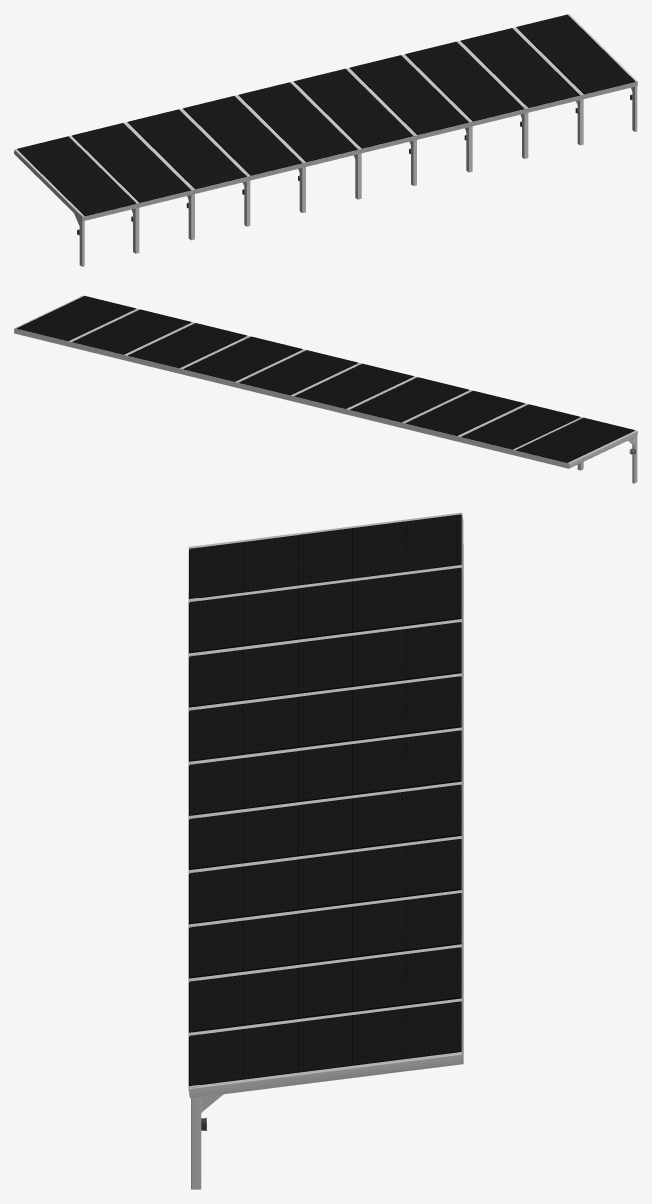
File: Cap_10.glb
The picture shows the model from 3 angles, top to bottom: view 1: azimuth 30°, elevation 25°; view 2: azimuth 150°, elevation 25°; view 3: azimuth 270°, elevation 25°; orthographic projection. The views are drawn at different scales.
Parts seen in each view (by area): view 1: Left.083, Middle.038, Middle.044, Middle.039, Middle.040, Middle.045, Middle.043, Middle.041, Middle.042, Middle.037, Right.010; view 2: Left.083, Middle.037, Middle.038, Middle.042, Middle.044, Middle.039, Middle.040, Middle.045, Middle.043, Middle.041; view 3: Middle.045, Middle.043, Middle.040, Middle.041, Middle.039, Middle.042, Middle.038, Middle.044, Middle.037, Left.083, Right.010.
Part boxes in pixels (box(x1,y1,x2,y2)): Left.083: box(14, 136, 137, 266); Middle.038: box(123, 109, 248, 240); Middle.044: box(457, 28, 582, 158); Middle.039: box(179, 95, 304, 226); Middle.040: box(235, 82, 360, 212); Middle.045: box(512, 14, 637, 145); Middle.043: box(401, 41, 526, 172); Middle.041: box(290, 68, 415, 199); Middle.042: box(346, 55, 471, 185); Middle.037: box(69, 123, 193, 253); Right.010: box(568, 14, 637, 131); Left.083: box(513, 417, 637, 483); Middle.037: box(458, 404, 583, 470); Middle.038: box(402, 390, 528, 441); Middle.042: box(180, 336, 306, 387); Middle.044: box(69, 309, 194, 360); Middle.039: box(347, 377, 472, 427); Middle.040: box(291, 363, 417, 414); Middle.045: box(14, 296, 139, 346); Middle.043: box(125, 323, 250, 373); Middle.041: box(236, 350, 361, 400); Middle.045: box(188, 998, 463, 1098); Middle.043: box(188, 890, 463, 980); Middle.040: box(188, 727, 463, 817); Middle.041: box(188, 781, 463, 871); Middle.039: box(188, 673, 463, 763); Middle.042: box(188, 836, 463, 925); Middle.038: box(188, 619, 463, 709); Middle.044: box(188, 944, 463, 1034); Middle.037: box(188, 565, 463, 654); Left.083: box(188, 512, 463, 600); Right.010: box(188, 1052, 463, 1189).
Bounding box in the file's own units: 26.66 × 3.11 × 5.7.
5 materials, 5 textured.
